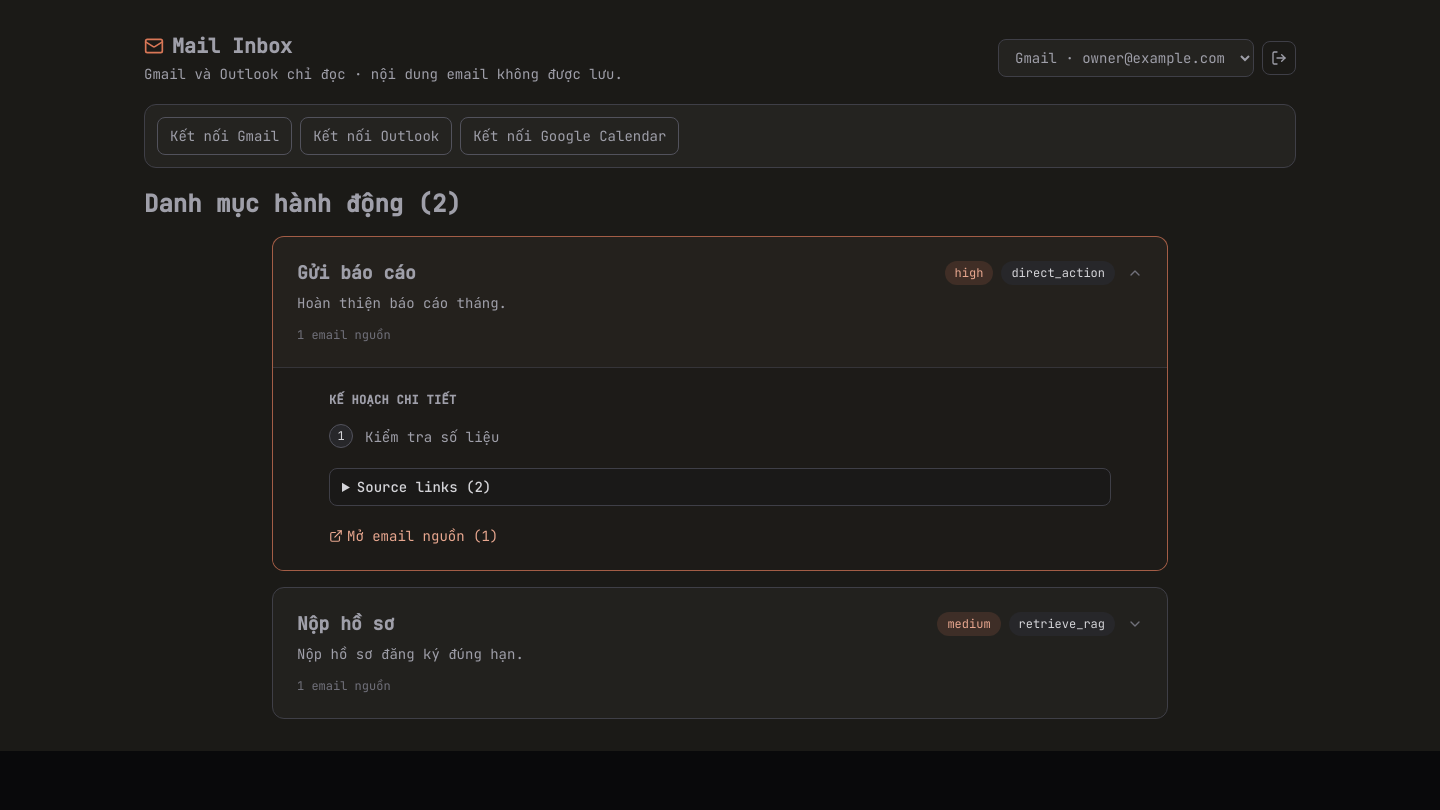
Test: MailInboxView › shows the latest Action Item plan and switches it on click
The image size is (1440, 810).
Expected: the heading "Gửi báo cáo" is shown, [297,261,416,286]
Expected: the text "Kiểm tra số liệu" is shown, [365,424,499,448]
Click the heading "Source links (2)": (424, 487) [357,478,491,496]
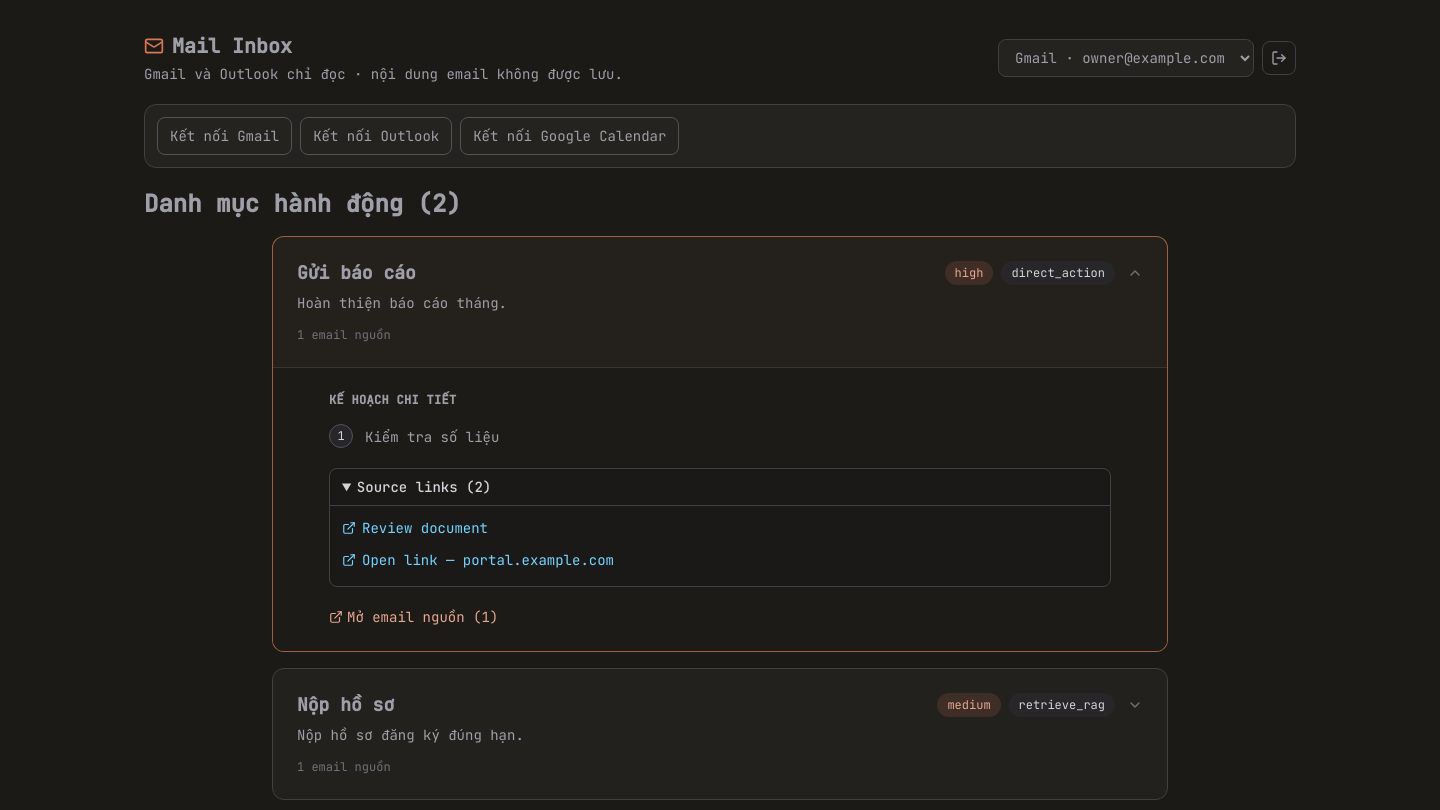
Expected: the text "Source links (2)" has attribute open, [329,468,1111,587]
Click the button "Nộp hồ sơ": (346, 705) [273,669,1167,799]
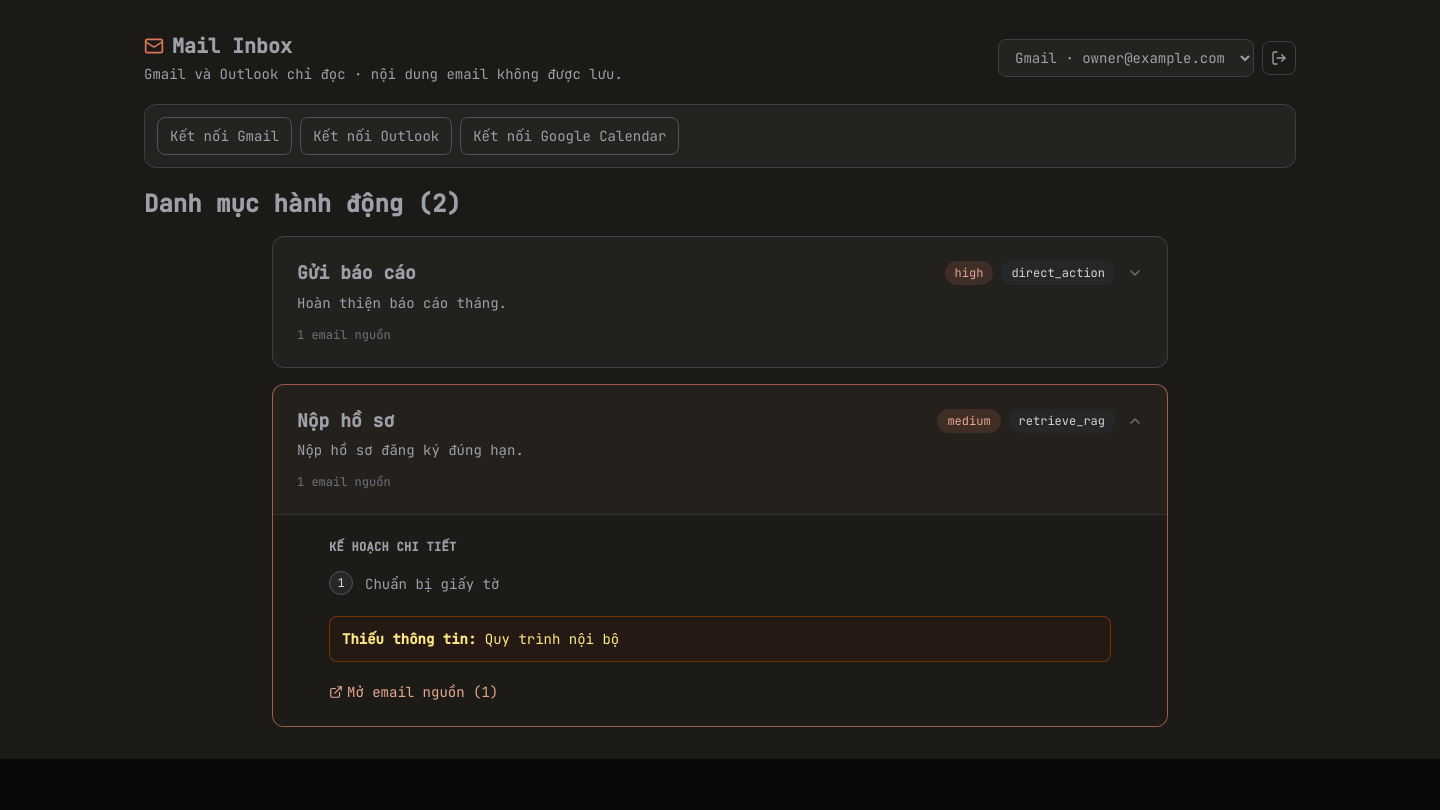
Expected: the text "Chuẩn bị giấy tờ" is shown, [365,571,499,596]
Expected: the button "Nộp hồ sơ" is expanded, [273,384,1167,514]
Expected: the text "Kiểm tra số liệu" is gone
